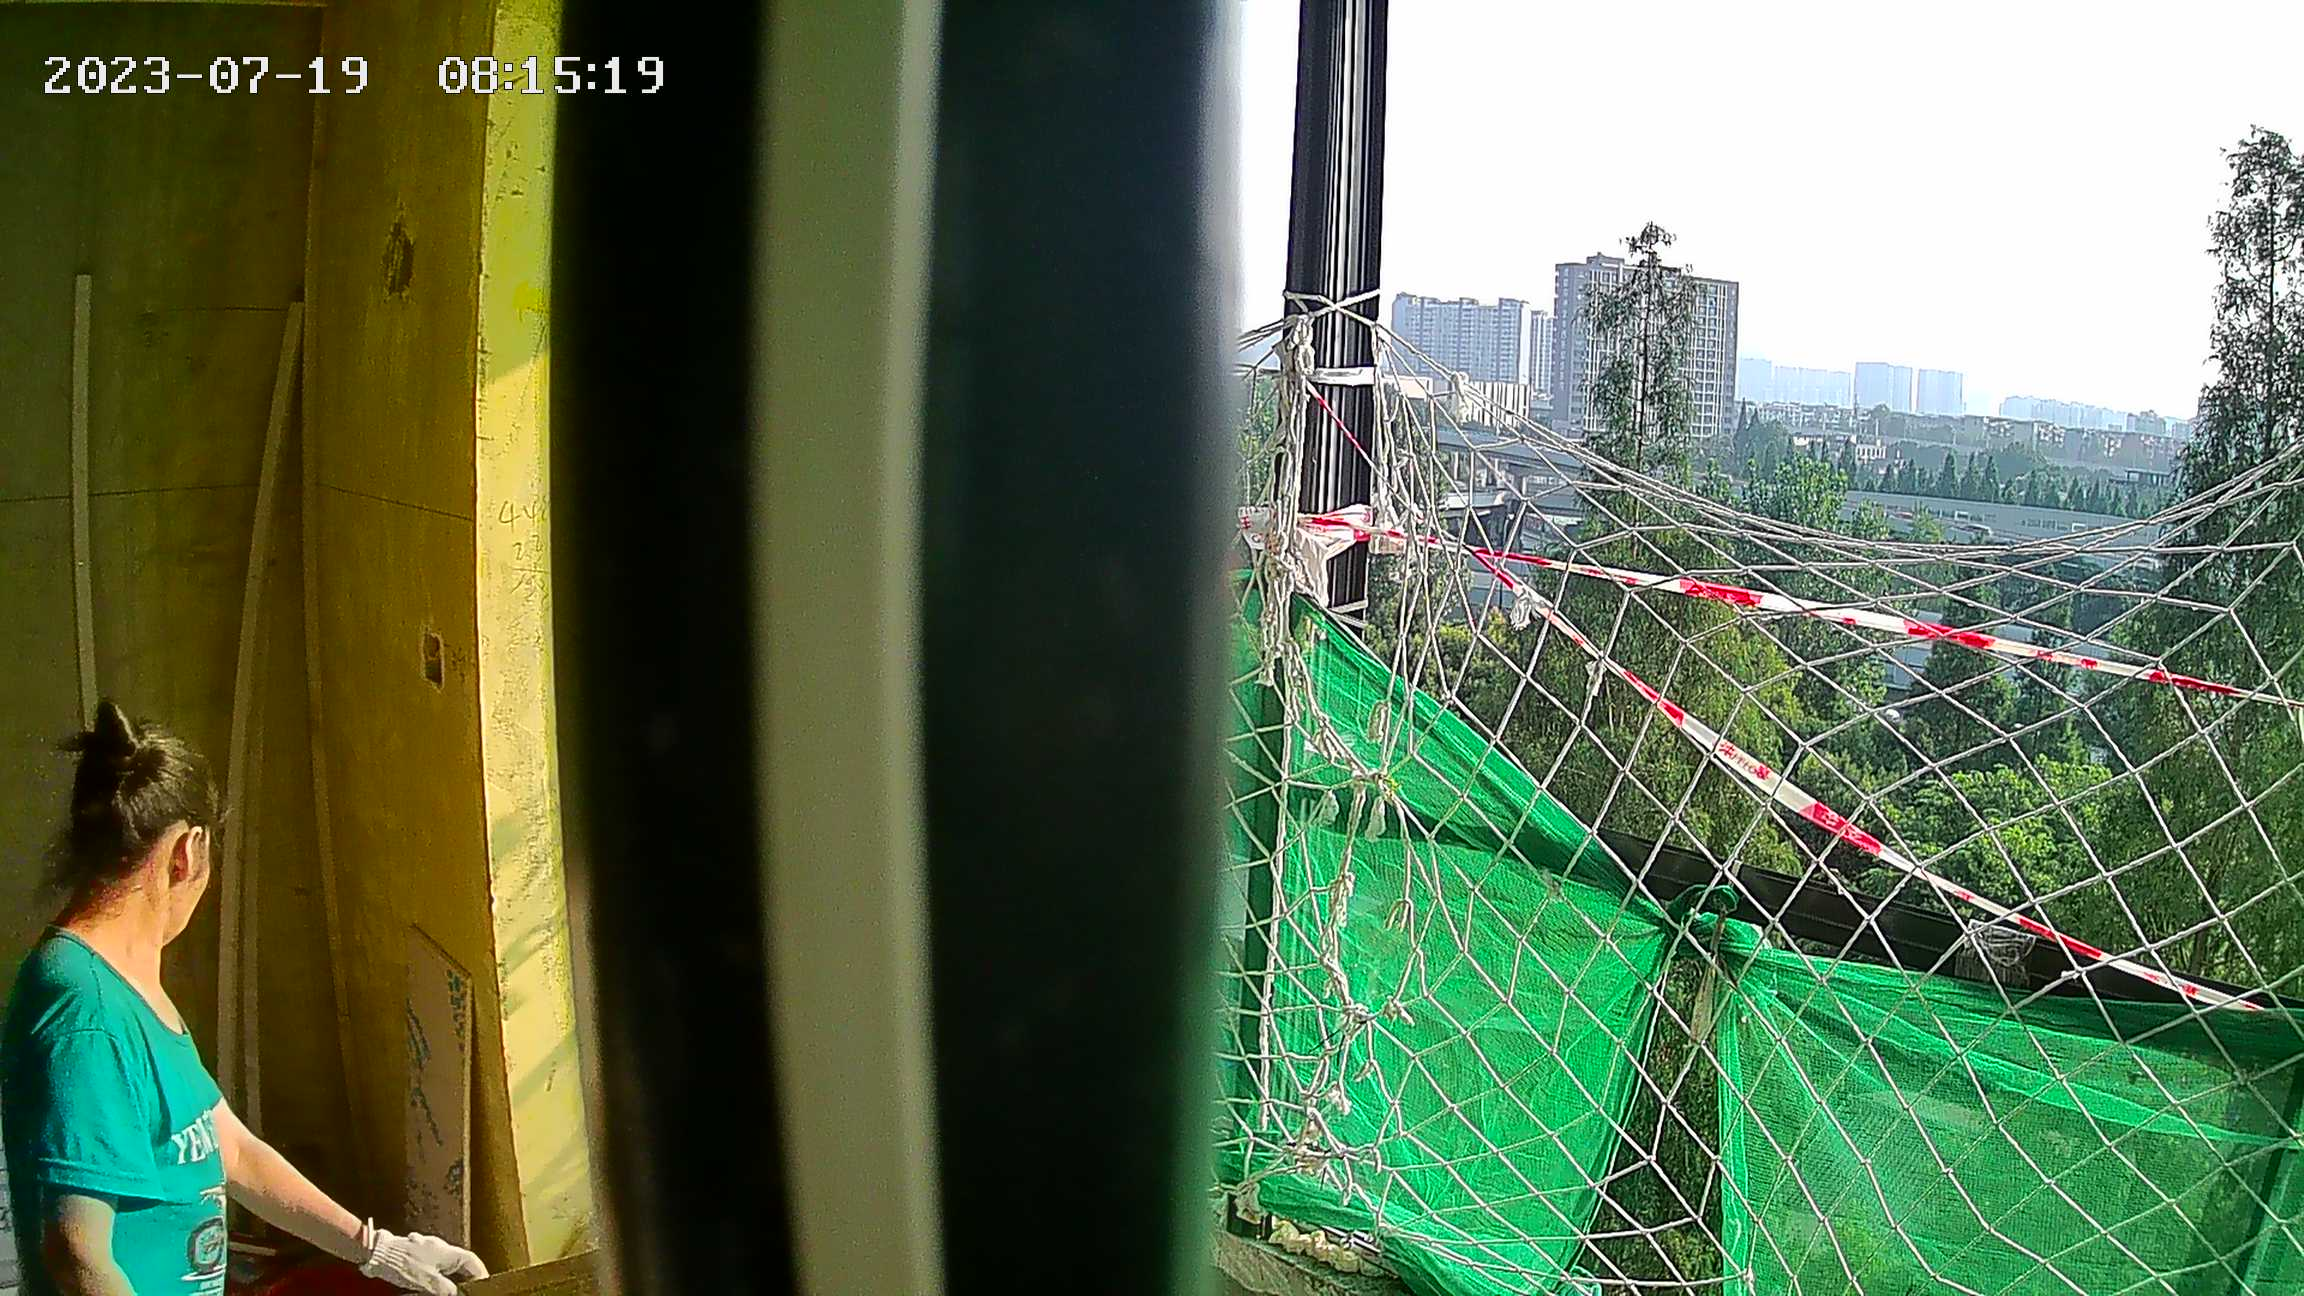people: (1, 716, 479, 1296)
window: (1231, 7, 2304, 1290)
